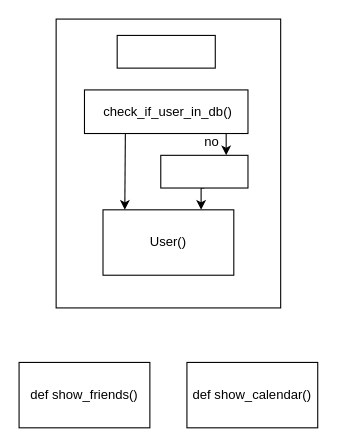
This 337x447 diagram has some shape labels left out. Each missing label, with the centre of its shape:
"def start()" belongs at (x=165, y=51).
"sign_up()" belongs at (x=204, y=171).
